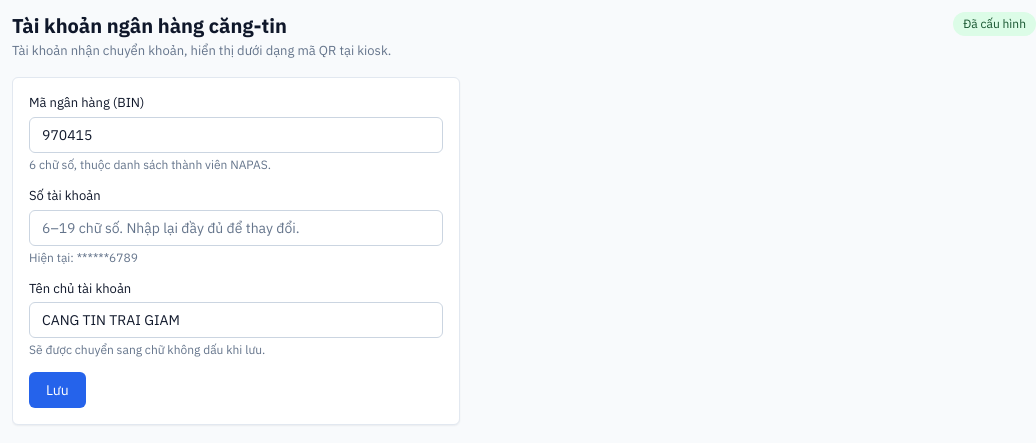
PaymentConfigPage — canteen bank account › invalid BIN shows an error and blocks the save
Step 1. Replace the text in the field labelled "Mã ngân hàng (BIN)" with "12" → (236, 135), box [29,117,443,153]
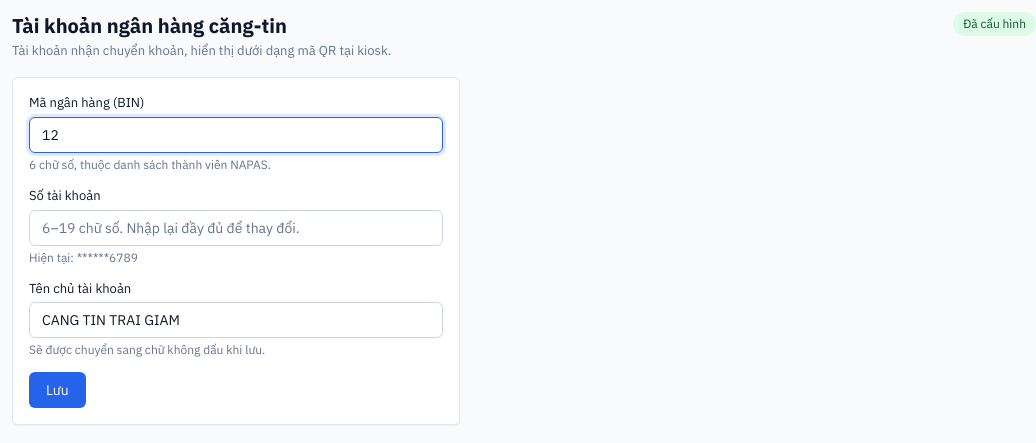
Step 2. Type "0123456789" into the field labelled "Số tài khoản" → (236, 228), box [29,210,443,246]
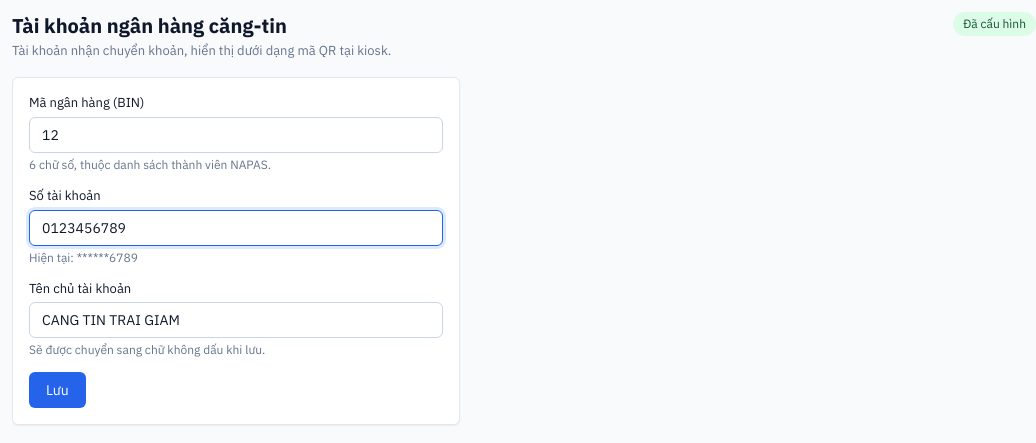
Step 3. Click the button "Lưu" → (57, 390), box [29,372,86,408]
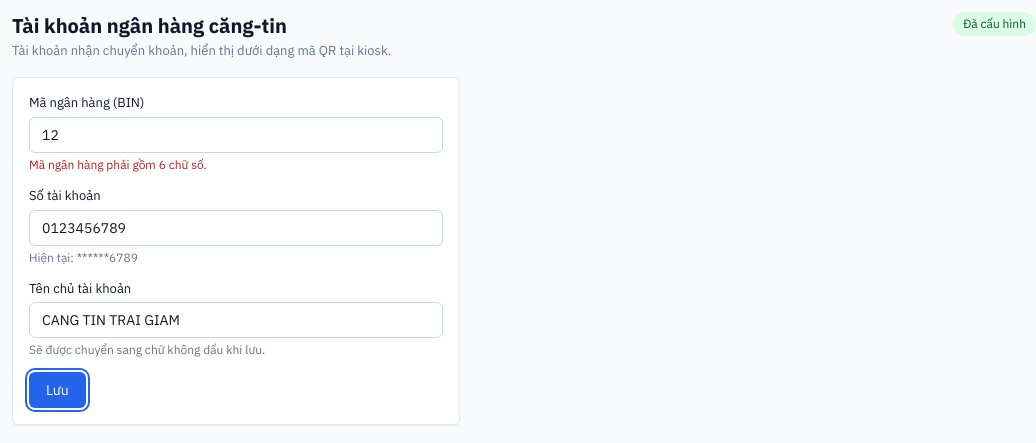
Result: the text "Mã ngân hàng phải gồm 6 chữ số." is shown at [29,157,207,172]
